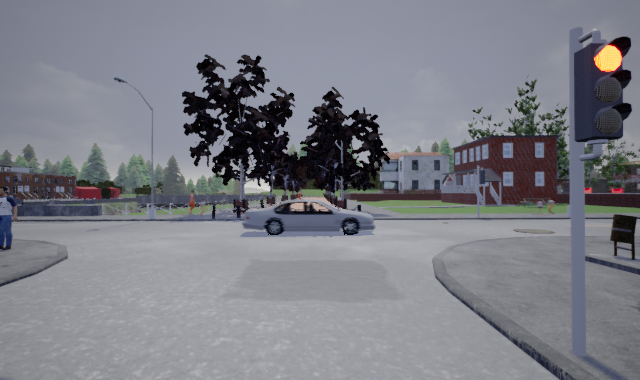pedestrian: (1, 184, 19, 253), (184, 189, 197, 215), (541, 195, 558, 214), (195, 196, 209, 216), (533, 198, 545, 213)
traffic_light: (574, 37, 633, 144)
vehicle: (238, 199, 377, 237)
